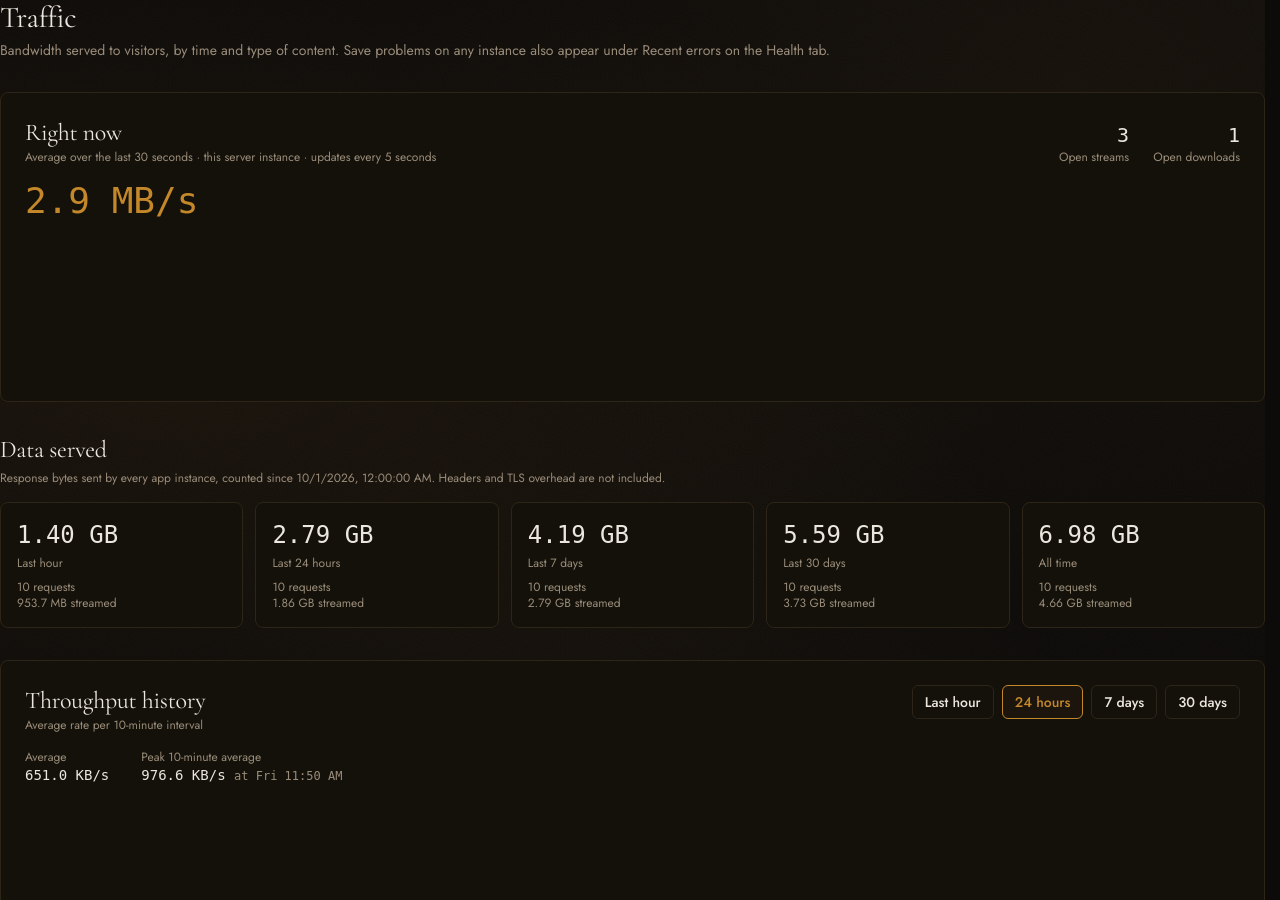
Test: clears a failed range error when switching range
Check: the text "Average" is shown, box [25, 748, 66, 766]
Click the button "7 days" at (1124, 702), box [1091, 685, 1157, 719]
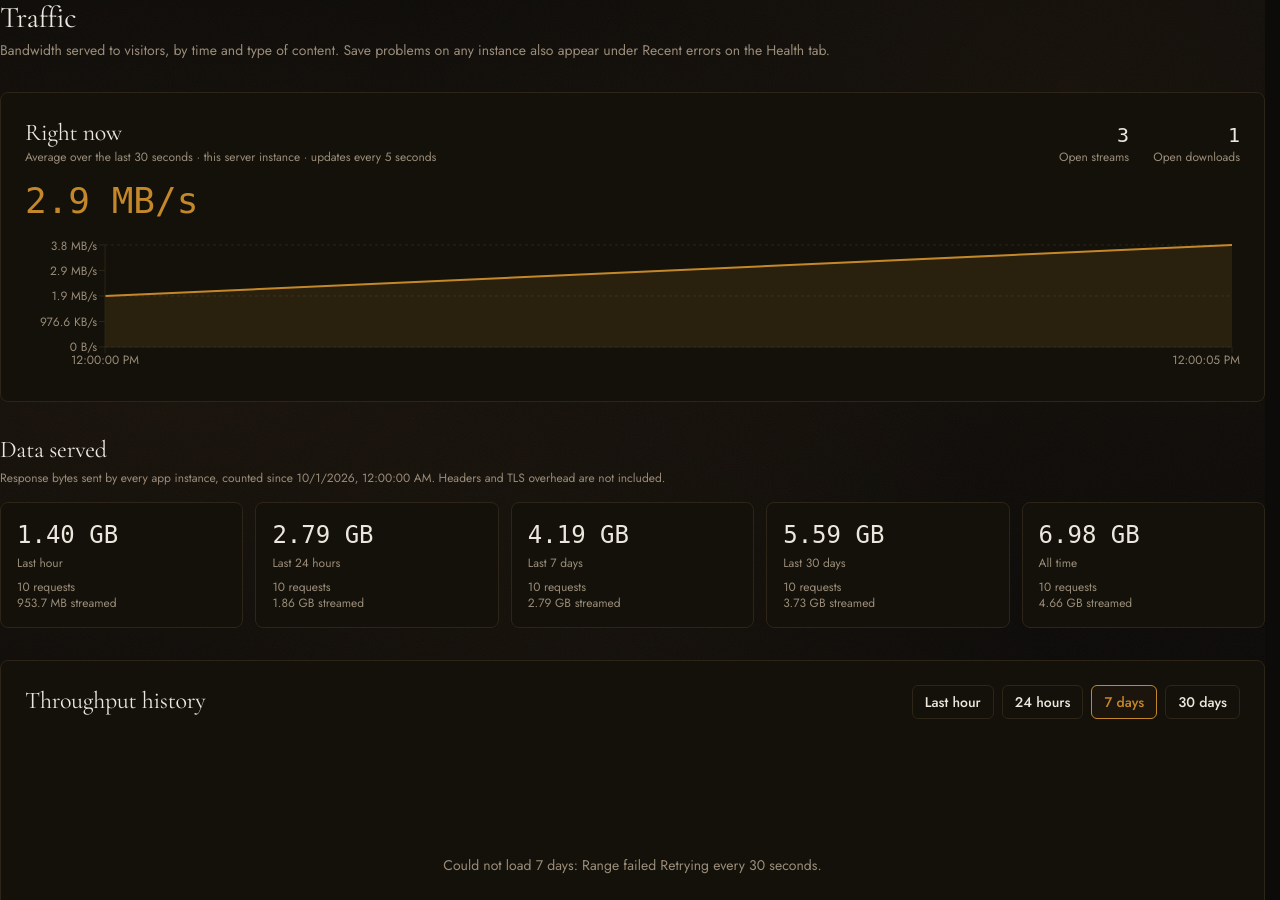
Check: the text "Could not load 7 days: Range failed Retrying every 30 seconds." is shown once, box [443, 855, 822, 875]
Click the button "30 days" at (1203, 702), box [1165, 685, 1240, 719]
(page scrolled)
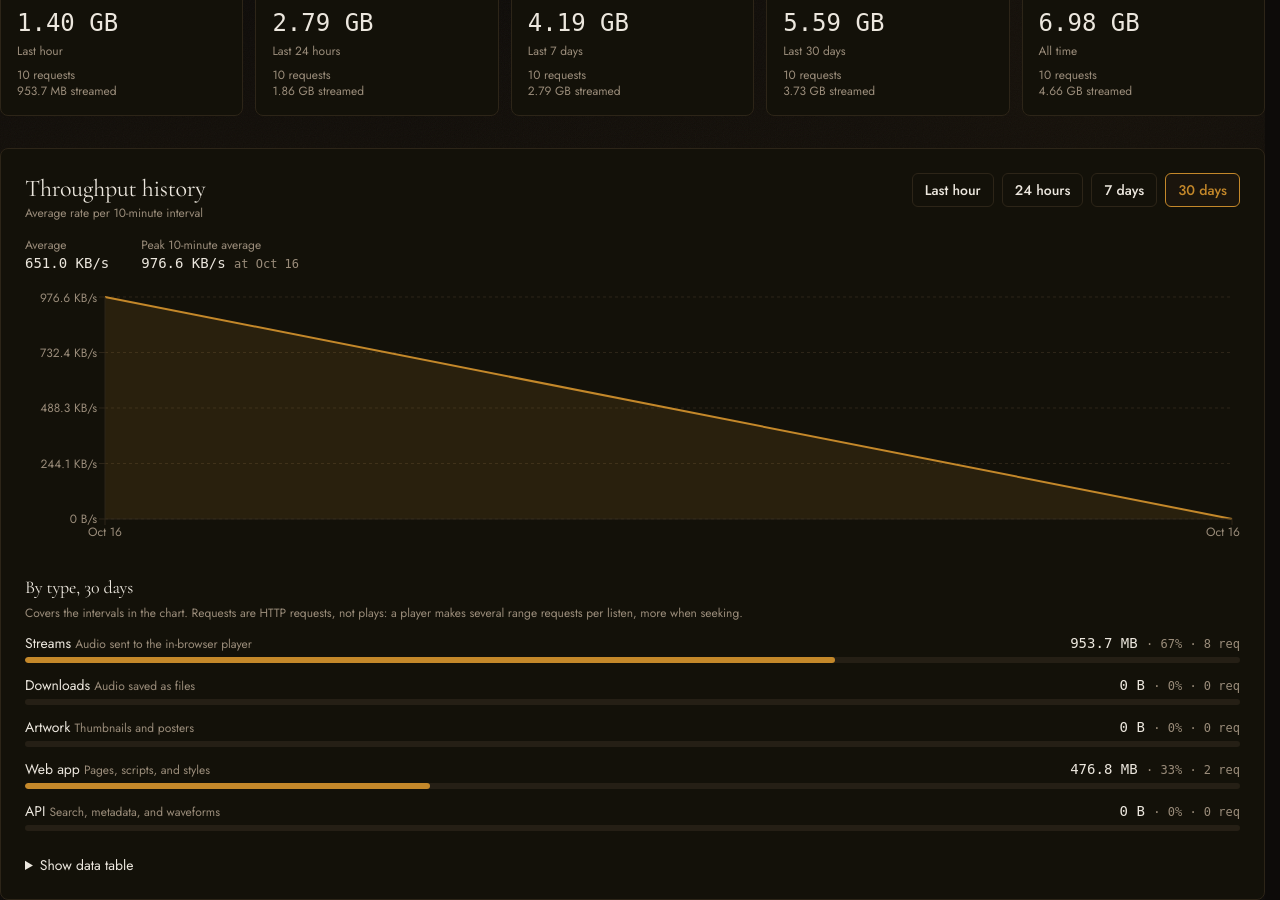
Check: the heading "By type, 30 days" is shown, box [25, 576, 133, 598]
